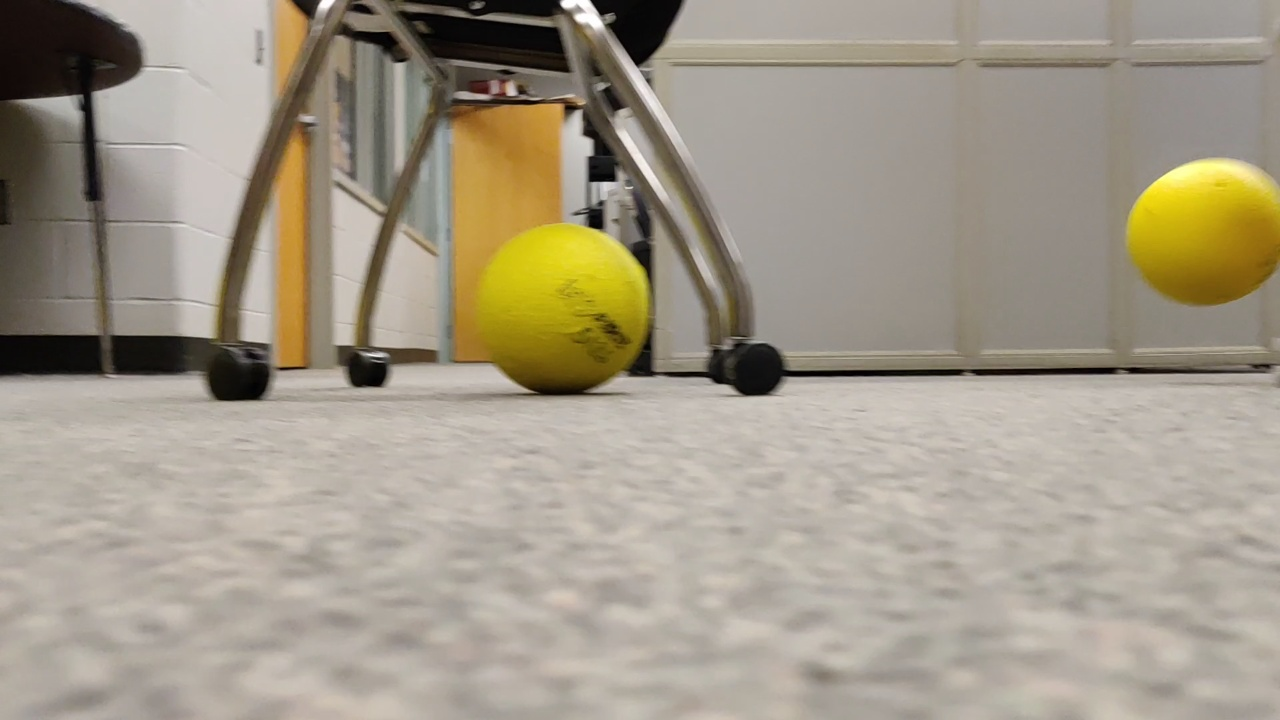Ball: (471, 224, 647, 393), (1123, 157, 1280, 310)
